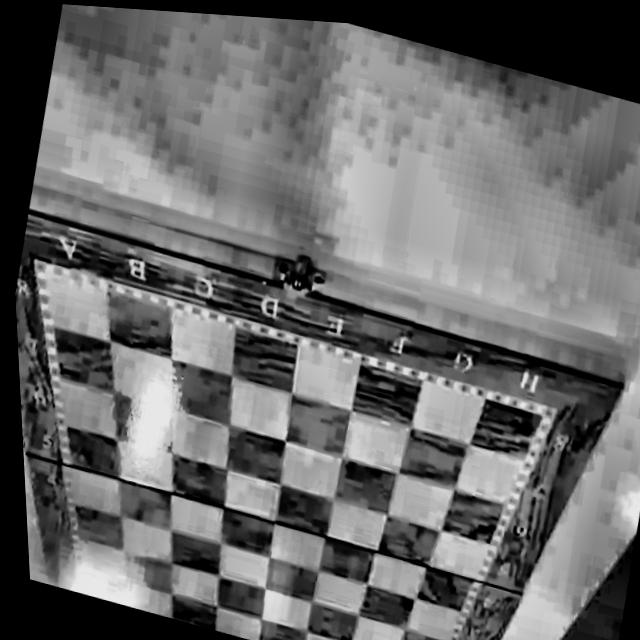chessboard: (33, 259, 558, 640)
p1: (81, 589, 86, 595)
p2: (38, 269, 58, 287)
p3: (528, 407, 546, 430)
